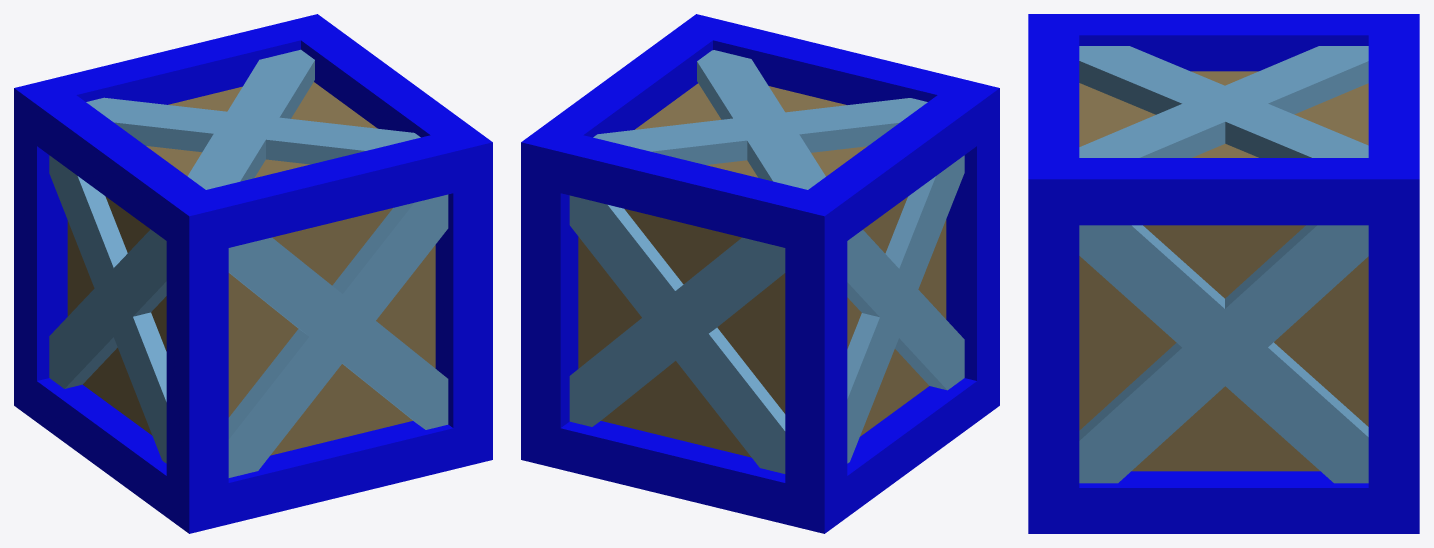
File: Crate light.fbx
3 views of the same model, side by side, from view 1: azimuth 30°, elevation 25°; view 2: azimuth 150°, elevation 25°; view 3: azimuth 270°, elevation 25° (orthographic). The views are drawn at different scales.
Visible parts, largest first — view 1: pCube15; view 2: pCube15; view 3: pCube15.
Part boxes in pixels (<box>): pCube15: <box>14,14,492,533</box>; pCube15: <box>521,14,999,533</box>; pCube15: <box>1028,14,1419,533</box>.
Bounding box in the file's own units: 1 × 1 × 1.
